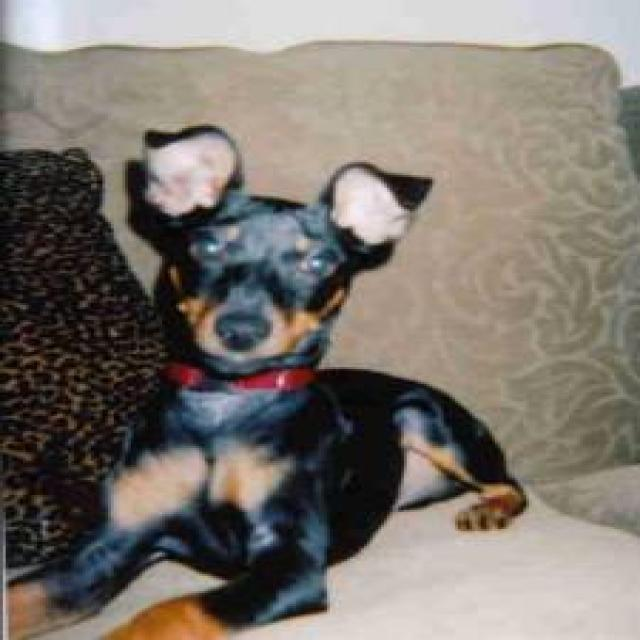dog-miniature_pinscher: (3, 115, 538, 636)
